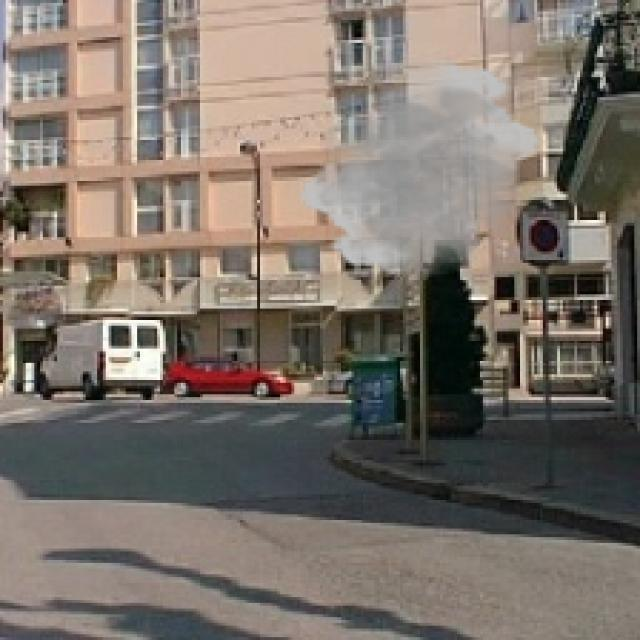Smoke: (297, 54, 543, 280)
